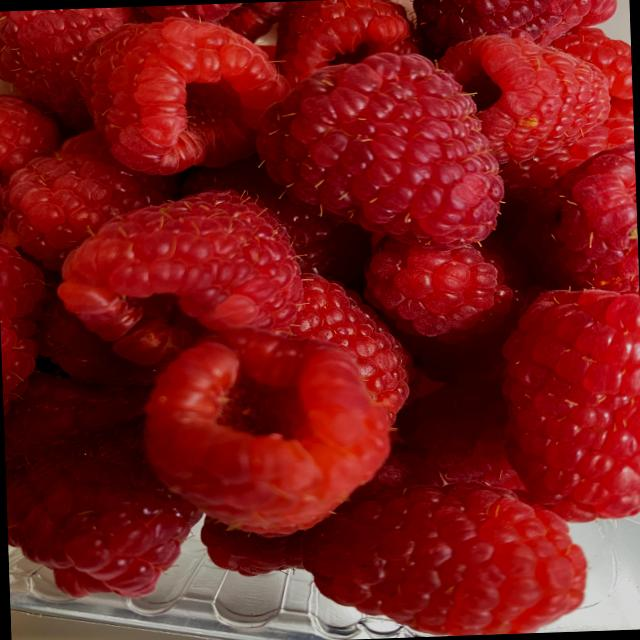raspberries: (0, 2, 622, 632)
